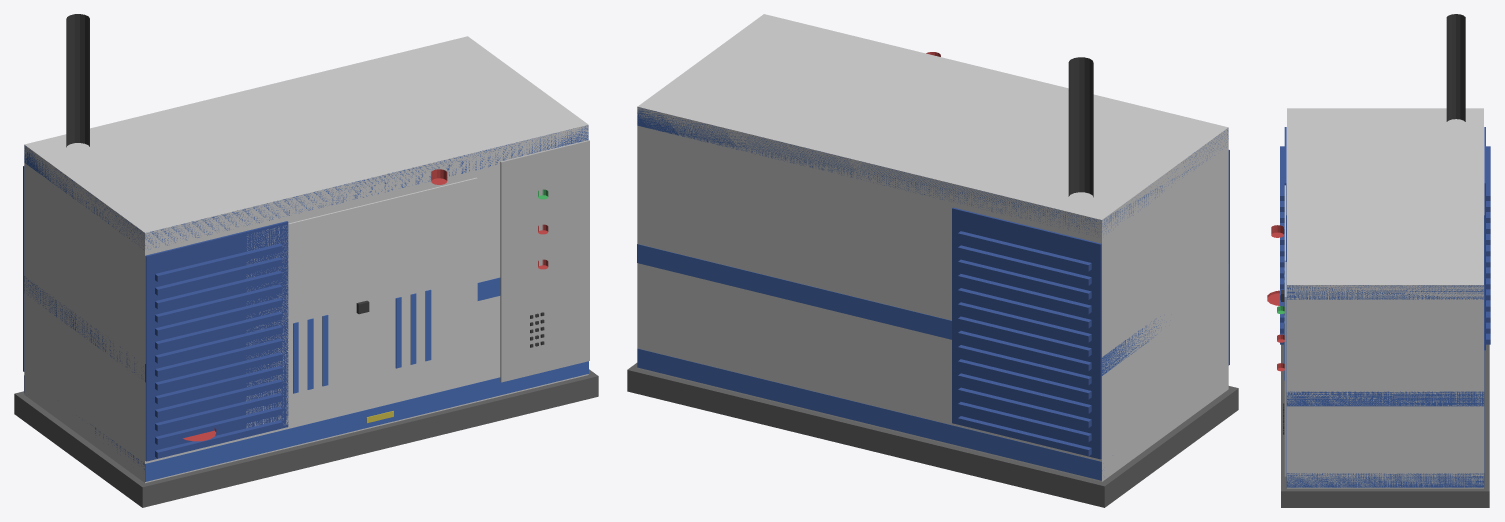
The model's file is ESCORT.glb.
The picture shows the model from 3 angles, left to right: view 1: azimuth 30°, elevation 25°; view 2: azimuth 150°, elevation 25°; view 3: azimuth 270°, elevation 25°; orthographic projection. The views are drawn at different scales.
Parts seen in each view (by area): view 1: EscortsEKL15; view 2: EscortsEKL15; view 3: EscortsEKL15.
Part boxes in pixels (x1,y1,x2,y2): EscortsEKL15: [14, 14, 598, 507]; EscortsEKL15: [627, 14, 1238, 507]; EscortsEKL15: [1267, 14, 1490, 507].
Bounding box in the file's own units: 1.85 × 1.55 × 0.9633.
